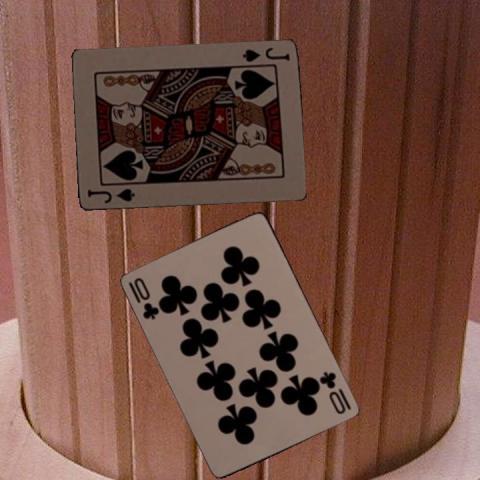10c: (317, 369, 353, 416), (126, 274, 162, 321)
Js: (84, 186, 137, 206), (239, 45, 291, 64)
